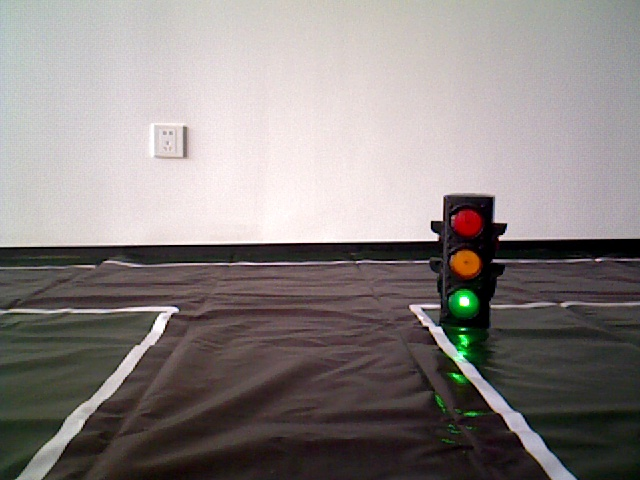green: (443, 200, 485, 321)
